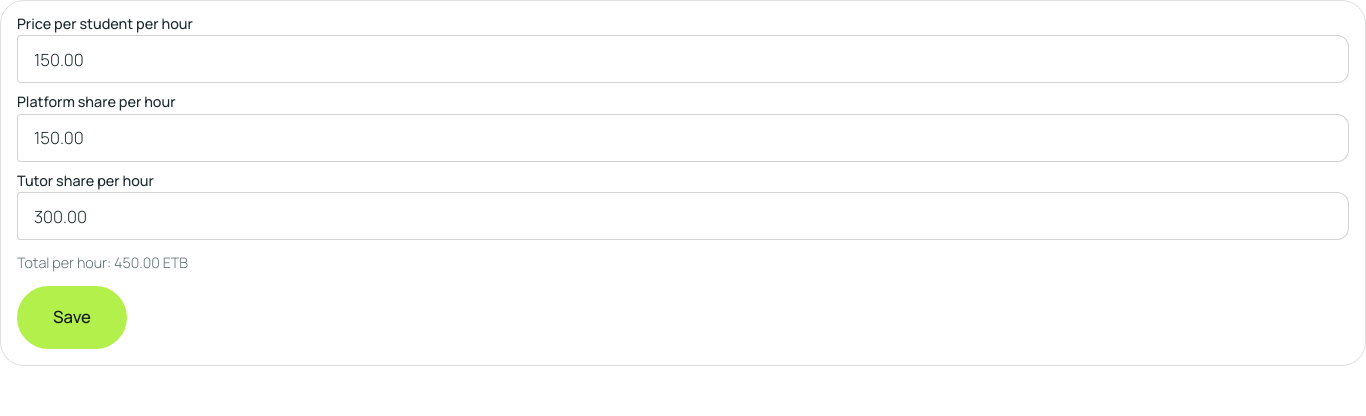
Test: PricingConfigForm › disables Save with a note when shares do not sum to the total
Replace the text in the field labelled "Tutor share per hour" with "250.00". click: (683, 216)
box: [17,192,1349,240]
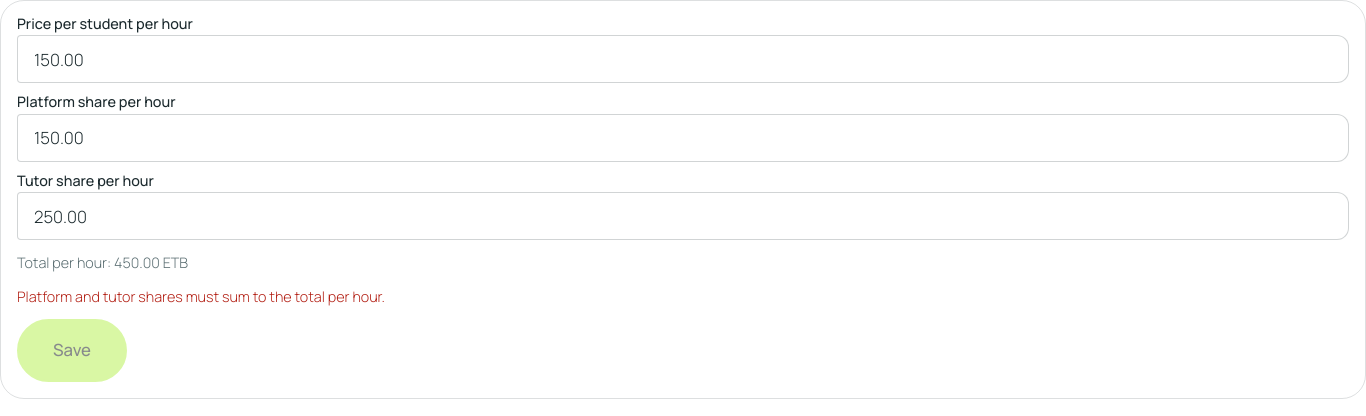
Result: the button "Save" is disabled at [17,319,127,382]
Result: the text "Platform and tutor shares must sum to the total per hour." is shown at [17,287,385,306]
